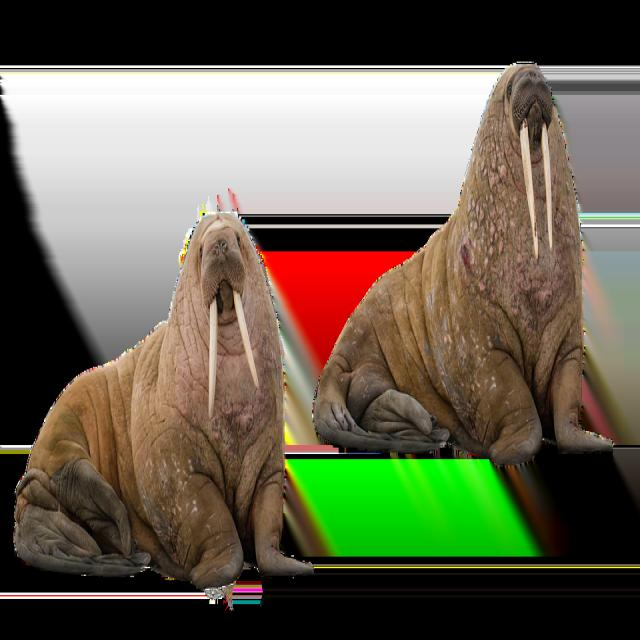walrus: (299, 15, 622, 472), (13, 186, 313, 597)
